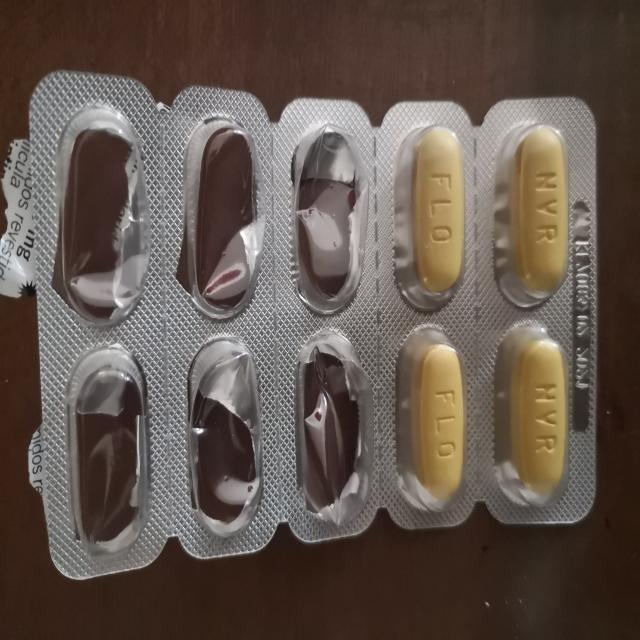Empty: (48, 103, 154, 326), (60, 333, 154, 558), (174, 106, 263, 322), (182, 328, 265, 545), (285, 116, 372, 317), (289, 329, 376, 529)
Pill: (393, 108, 471, 315), (392, 320, 475, 512), (494, 117, 575, 309), (496, 317, 574, 513)
